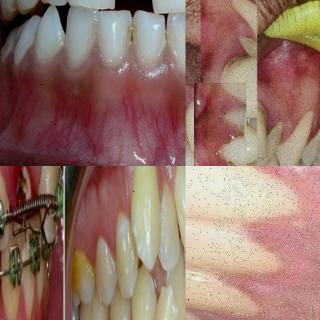Gum Swelling: (239, 166, 320, 320)
calculus: (218, 50, 254, 86), (214, 134, 246, 166), (254, 100, 270, 159), (220, 98, 248, 130), (268, 119, 286, 153), (234, 31, 252, 59)
maligned: (157, 188, 183, 268), (142, 283, 185, 320), (171, 166, 185, 246)
plaque: (0, 30, 16, 68), (0, 0, 18, 13)
stains: (66, 253, 95, 301), (118, 20, 142, 50)
